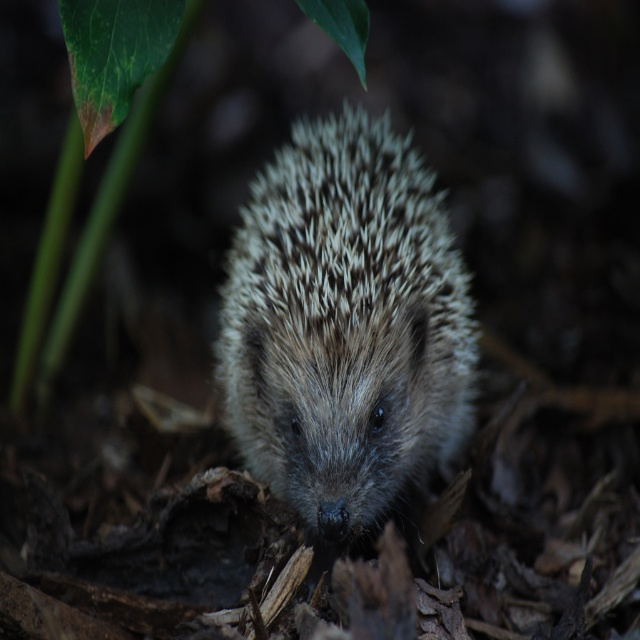Hedgehog: (207, 93, 491, 556)
